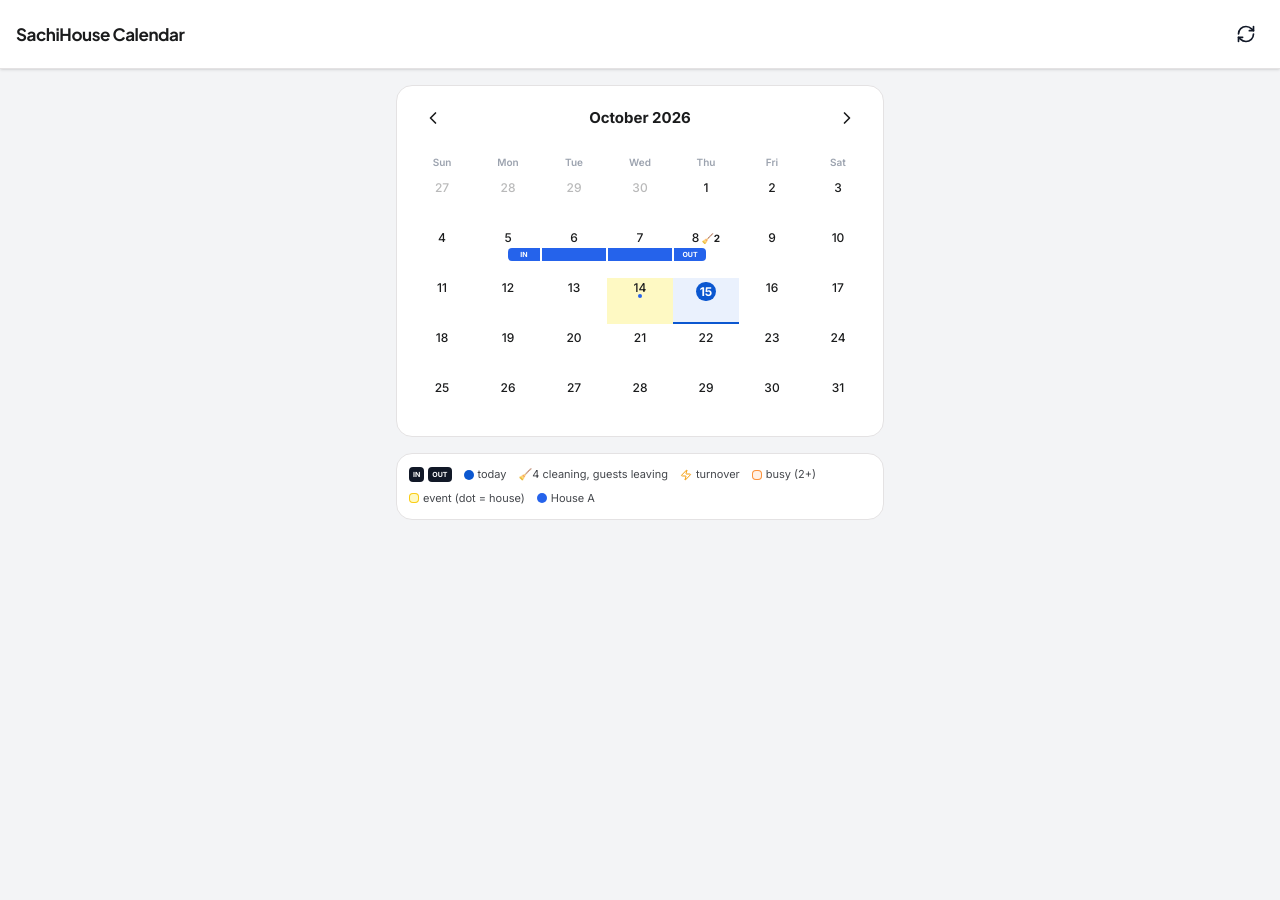
Scenario: CleaningCalendarPage — events are display only › 25: a day with only an event is clickable and the sheet lists it
Click the button "14" at [640, 301], box x1=607 y1=278 x2=673 y2=324
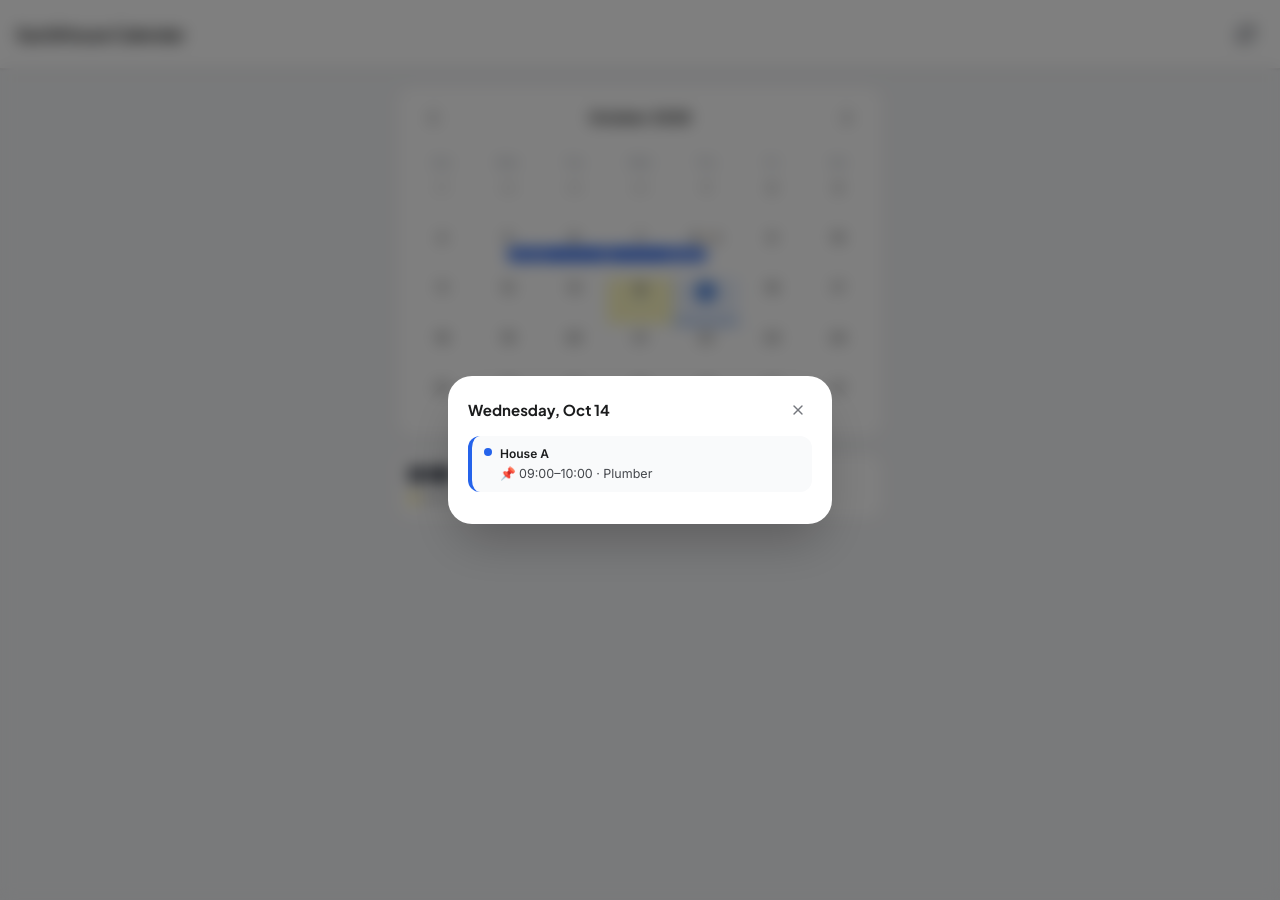
Now the text "House A" is shown, box x1=500 y1=446 x2=549 y2=461
Now the text "📌 09:00–10:00 · Plumber" is shown, box x1=500 y1=466 x2=652 y2=481
